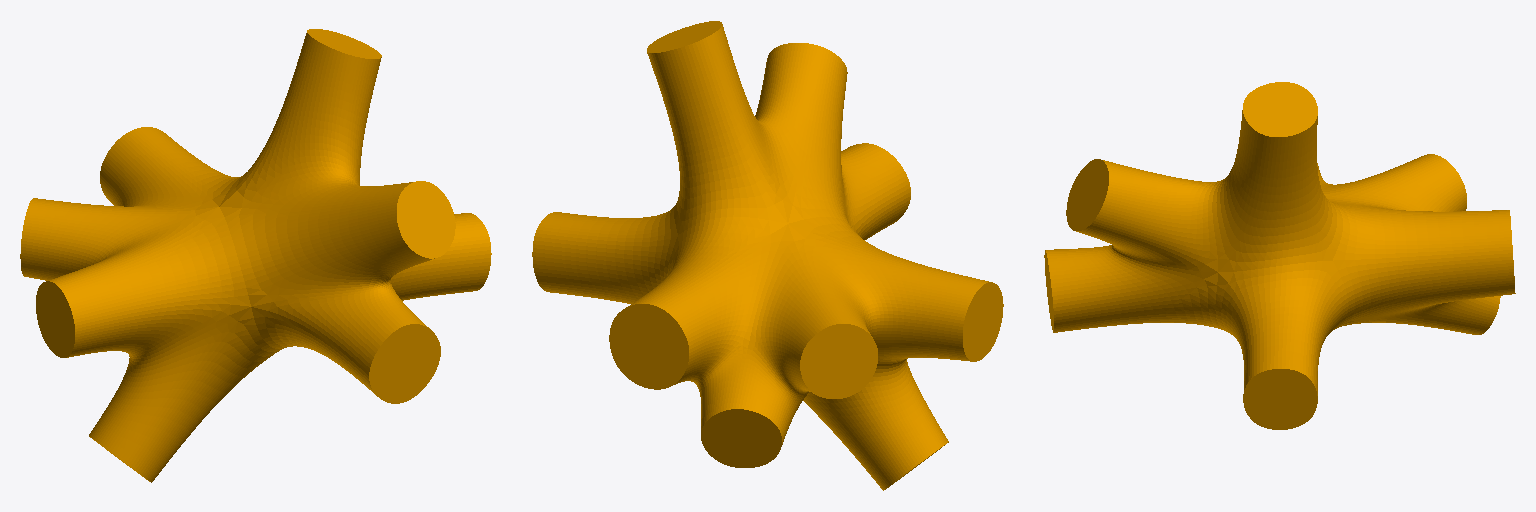
URDF robot description (object):
<robot name="object">
  <link name="object">
    <visual>
      <origin xyz="0 0 0"/>
      <geometry>
        <mesh filename="visual.obj" scale="1 1 1"/>
      </geometry>
    </visual>
    <collision>
      <origin xyz="0 0 0"/>
      <geometry>
        <mesh filename="visual.obj" scale="1 1 1"/>
      </geometry>
    </collision>
    <inertial>
      <mass value="0.05"/>
      <inertia ixx="2.1672406641915536e-05" iyy="1.9298164332331363e-05" izz="2.7191570636935356e-05" ixy="4.088739326872067e-06" ixz="-3.387281613324794e-06" iyz="1.8992634067040834e-06"/>
    </inertial>
  </link>
</robot>

--- Render facts (derived) ---
The picture shows the robot from 3 angles, left to right: view 1: azimuth 30°, elevation 25°; view 2: azimuth 150°, elevation 25°; view 3: azimuth 270°, elevation 25°; orthographic projection.
Model object with 1 links and 0 joints (none), rooted at object, posed all joints at 0.
Visible links, largest first — view 1: object; view 2: object; view 3: object.
Boxes of the visible links, box(x1,y1,x2,y2) form: object: box(20, 29, 491, 482); object: box(532, 21, 1003, 490); object: box(1044, 82, 1515, 429).
Bounding box of the posed robot: 0.0867 × 0.0871 × 0.0784 m (x, y, z).
1 mesh visuals loaded from 1 distinct referenced files (1 OBJ).
